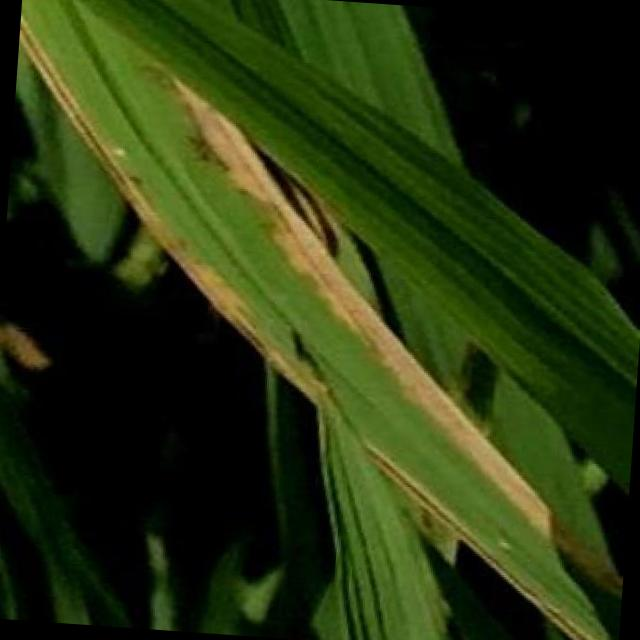Rice_Bacterial_Blight: (160, 111, 333, 360)
